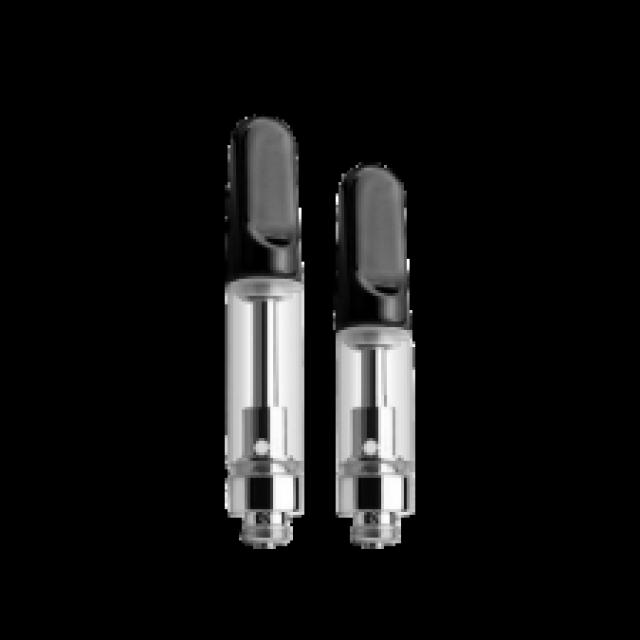Vapes: (219, 111, 307, 549)
